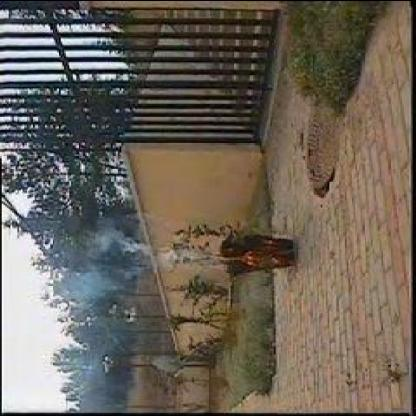-: (62, 226, 140, 298)
foggia-v2-map80-epoch100 - v1 4323: (220, 248, 264, 268)
